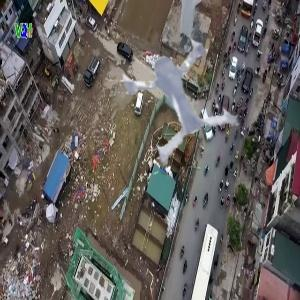drone: (99, 13, 248, 162)
